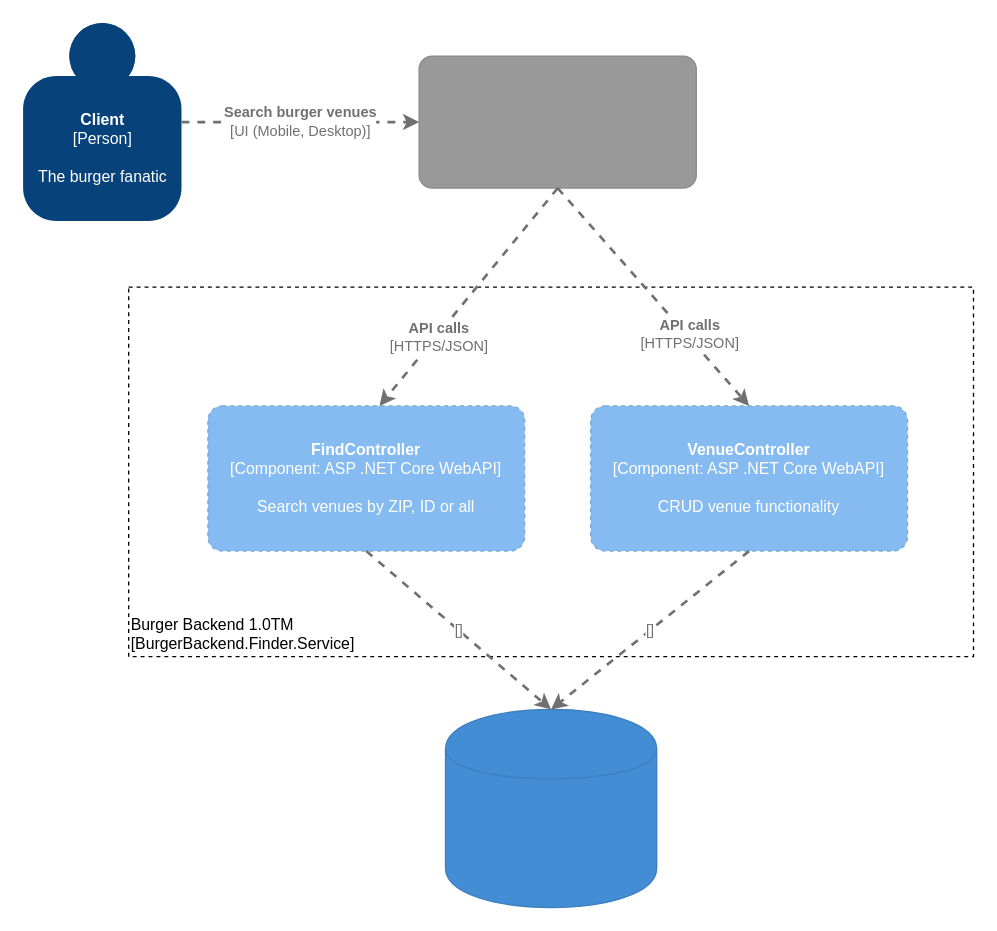
The diagram is 997 pixels wide and 931 high, and some of its shapes have lost their labels. The shapes that lost their labels are listed below. From the top down, each one's centre as x and y in pixels, then its label:
point 557,121: Client UI [Software System] The 3rd party UI provider
point 550,808: Database [Container: Mongo] Venue data
